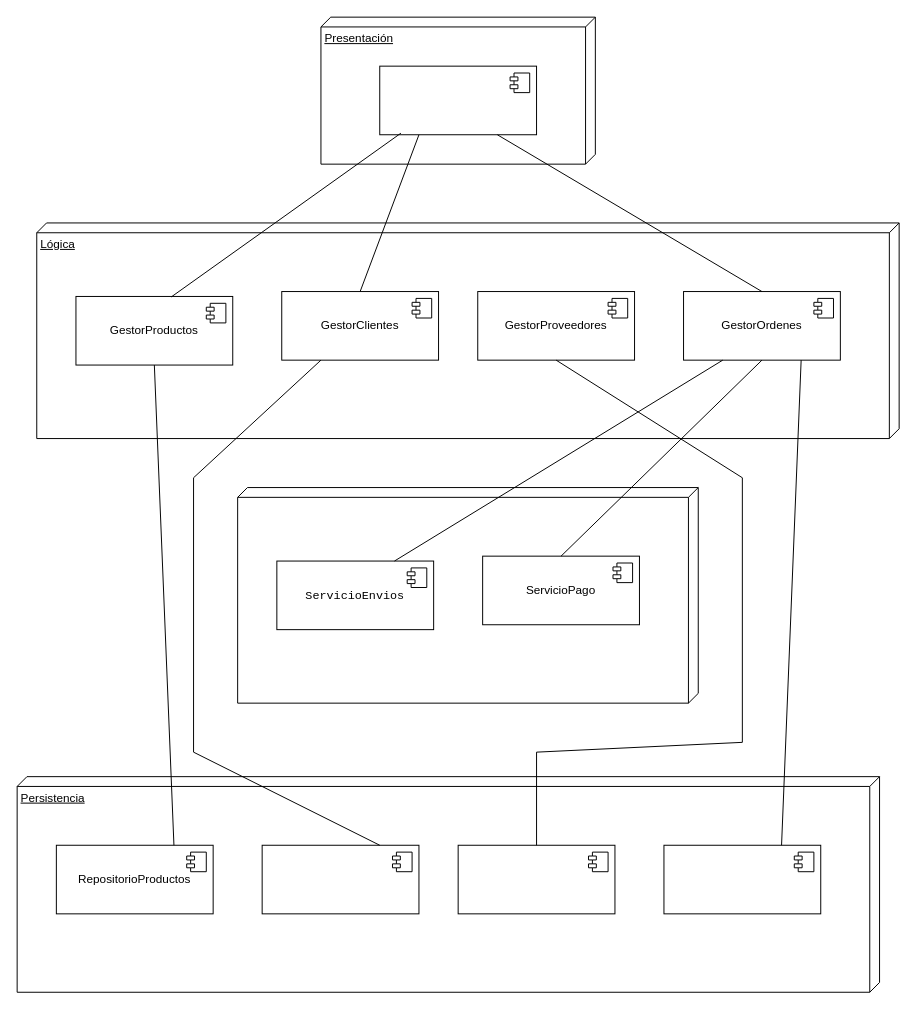
The diagram is 916 pixels wide and 1009 high, and some of its shapes have lost their labels. The box of each missing label's shape, as (x1, y1, x2, y2) in pixels:
Integración: (237, 487, 698, 703)
RepositorioClientes: (261, 844, 419, 914)
RepositorioOrdenes: (663, 844, 821, 914)
RepositorioProveedores: (457, 844, 615, 914)
Sitio Web: (379, 65, 537, 135)
